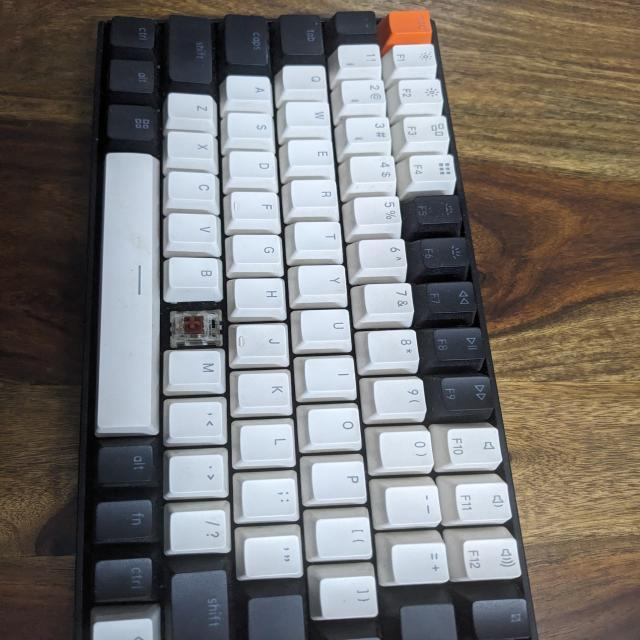key-switch: (166, 308, 225, 348)
